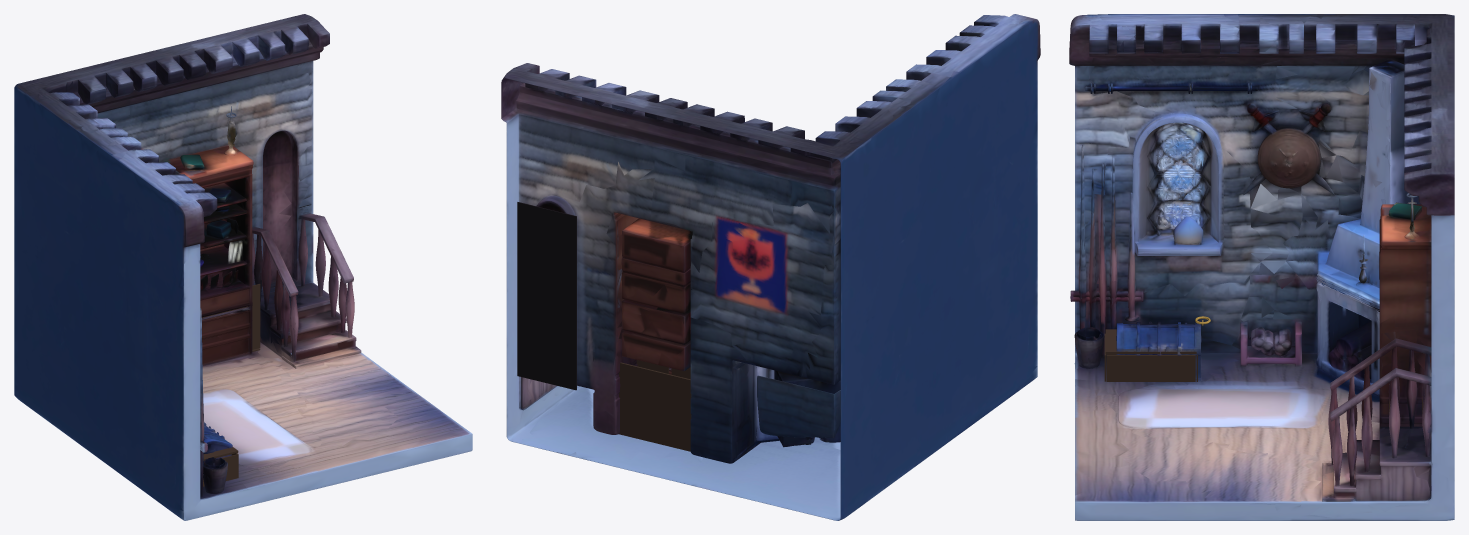
Rendered from adventure-room.glb.
3 views of the same model, side by side, from view 1: azimuth 30°, elevation 25°; view 2: azimuth 150°, elevation 25°; view 3: azimuth 270°, elevation 25° (orthographic). The views are drawn at different scales.
Visible parts, largest first — view 1: ArchitectureMesh, FireplaceMesh, CabinetMesh, StairsMesh, RugMesh, WindowMesh, DoorMesh, ShieldMesh, CabinetRightMesh, CabinetLeftMesh, BannerMesh, BucketLeftMesh (+2 smaller); view 2: ArchitectureMesh, FireplaceMesh, CabinetMesh, DoorwayDepth, BannerMesh, WindowMesh, CabinetInnerBack, ShieldMesh, StairsMesh; view 3: ArchitectureMesh, FireplaceMesh, WindowMesh, RugMesh, StairsMesh, CabinetMesh, ShieldMesh, LogBasketMesh, ChestInteriorFront, ChestLidMesh, BucketLeftMesh, BookCoverMesh (+2 smaller).
Boxes of the visible parts, x1,y1,x2,y2 form: ArchitectureMesh: [14, 14, 472, 520]; FireplaceMesh: [14, 54, 219, 451]; CabinetMesh: [157, 110, 258, 352]; StairsMesh: [252, 196, 346, 358]; RugMesh: [203, 382, 342, 471]; WindowMesh: [135, 247, 176, 438]; DoorMesh: [263, 131, 294, 284]; ShieldMesh: [98, 185, 138, 305]; CabinetRightMesh: [215, 288, 272, 363]; CabinetLeftMesh: [200, 296, 231, 370]; BannerMesh: [111, 105, 167, 162]; BucketLeftMesh: [202, 457, 247, 497]; ArchitectureMesh: [501, 14, 1040, 520]; FireplaceMesh: [696, 80, 943, 509]; CabinetMesh: [592, 170, 703, 456]; DoorwayDepth: [517, 202, 576, 390]; BannerMesh: [690, 171, 772, 334]; WindowMesh: [981, 105, 1029, 343]; CabinetInnerBack: [619, 362, 691, 450]; ShieldMesh: [938, 104, 985, 236]; StairsMesh: [520, 279, 598, 429]; ArchitectureMesh: [1069, 14, 1454, 520]; FireplaceMesh: [1251, 14, 1454, 415]; WindowMesh: [1088, 93, 1191, 302]; RugMesh: [1115, 385, 1322, 448]; StairsMesh: [1352, 338, 1431, 501]; CabinetMesh: [1379, 204, 1431, 426]; ShieldMesh: [1172, 64, 1274, 185]; LogBasketMesh: [1195, 322, 1276, 381]; ChestInteriorFront: [1106, 355, 1195, 381]; ChestLidMesh: [1116, 319, 1200, 354]; BucketLeftMesh: [1075, 327, 1106, 380]; BookCoverMesh: [1380, 202, 1418, 225].
Size of the model in its own units: 4.22 by 4.3 by 4.28.
5 materials, 1 textured.
